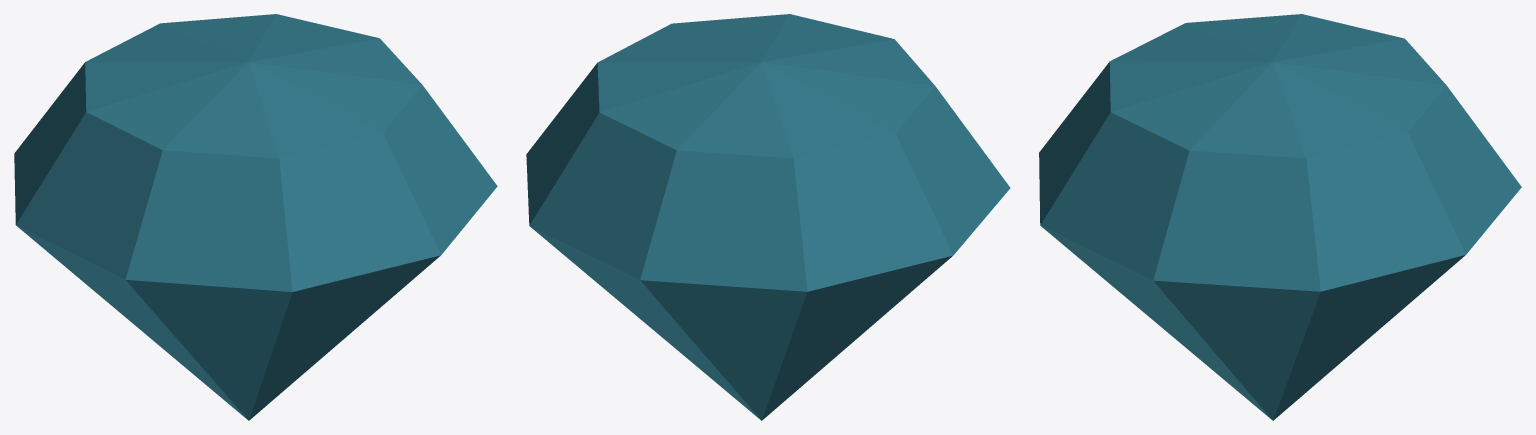
The model's file is Diamond.FBX.
3 views of the same model, side by side, from view 1: azimuth 30°, elevation 25°; view 2: azimuth 150°, elevation 25°; view 3: azimuth 270°, elevation 25° (orthographic).
Parts seen in each view (by area): view 1: Diamond__ZBr; view 2: Diamond__ZBr; view 3: Diamond__ZBr.
Part boxes in pixels (<box>): Diamond__ZBr: <box>14,14,497,420</box>; Diamond__ZBr: <box>526,14,1010,420</box>; Diamond__ZBr: <box>1039,14,1521,420</box>.
Size of the model in its own units: 88.78 by 71.81 by 87.55.
